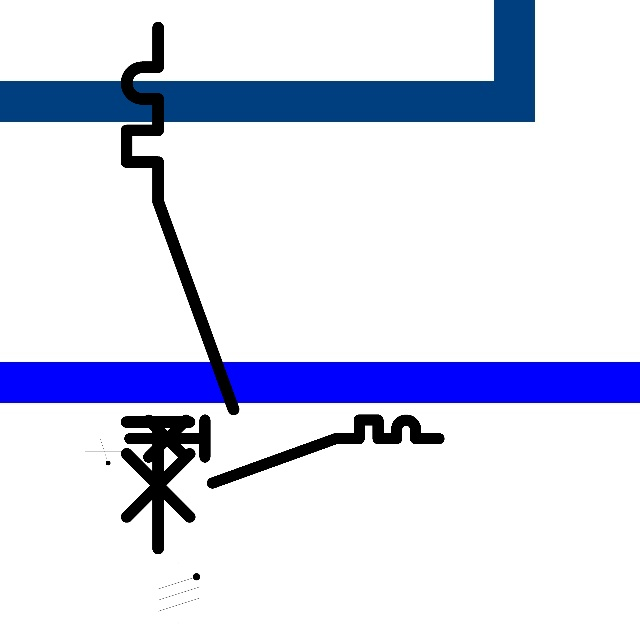interruptor_termomagnetico: (113, 14, 247, 562), (121, 412, 446, 491)
